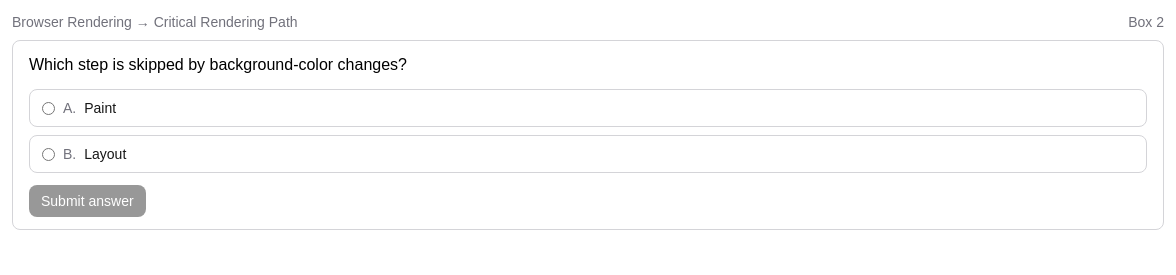
Scenario: ReviewQueue › marks an item Reviewed after it's answered, without removing it
Click the radio button labelled "A. Paint".
click(48, 108)  # box [42,102,55,114]
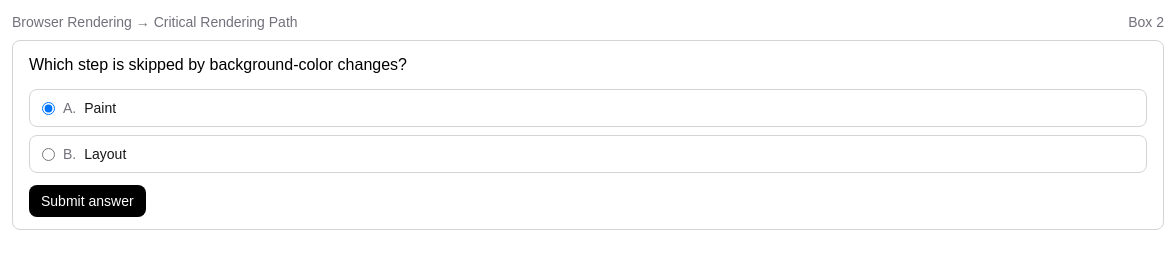
Click the button "Submit answer".
click(87, 201)  # box [29,185,146,217]
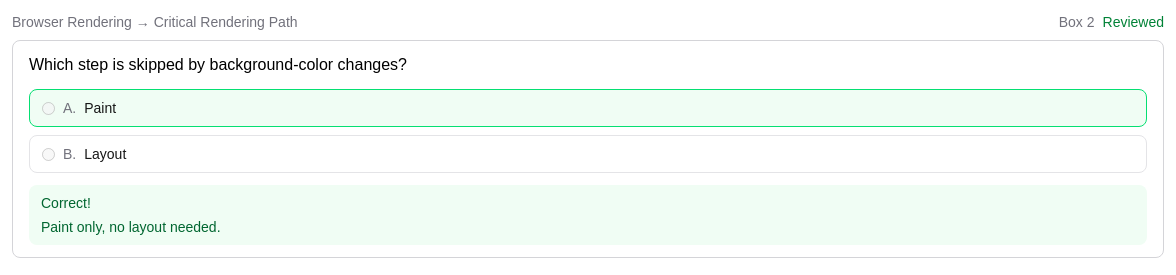
Now the text "Reviewed" is shown, box [1102,14,1164,30]
Now the text "Correct!" is shown, box [41,195,91,211]
